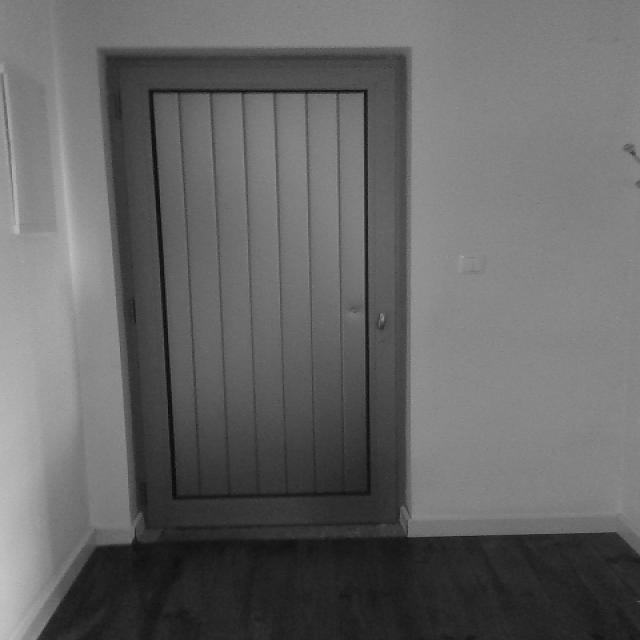door: (84, 44, 425, 540)
